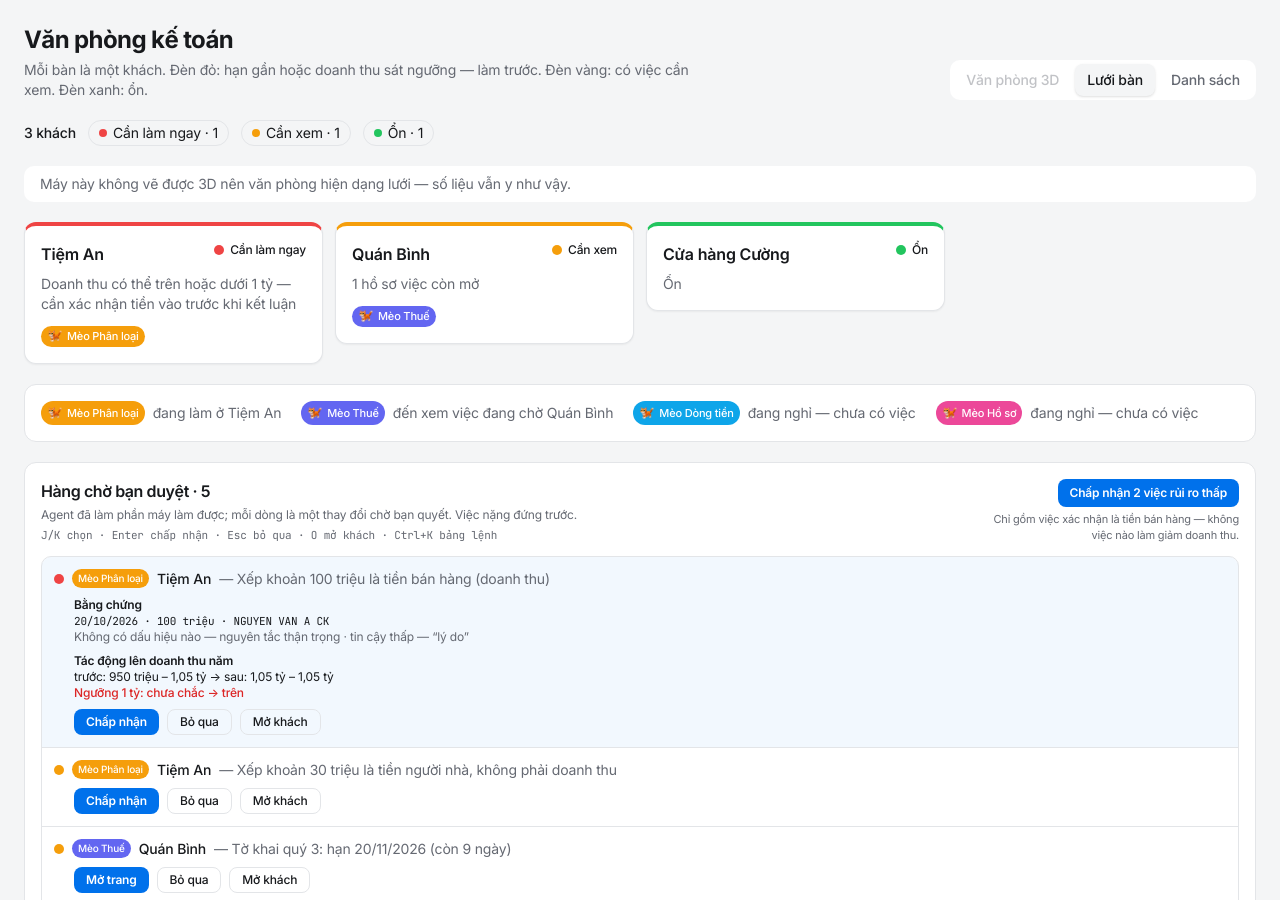
it: văn phòng kế toán › bấm bàn mở bảng khách; "Soạn tờ khai" đổi công ty đang dùng rồi mở trang tờ khai
Click the button "Tiệm An".
click(174, 293)  # box [24,222,323,364]
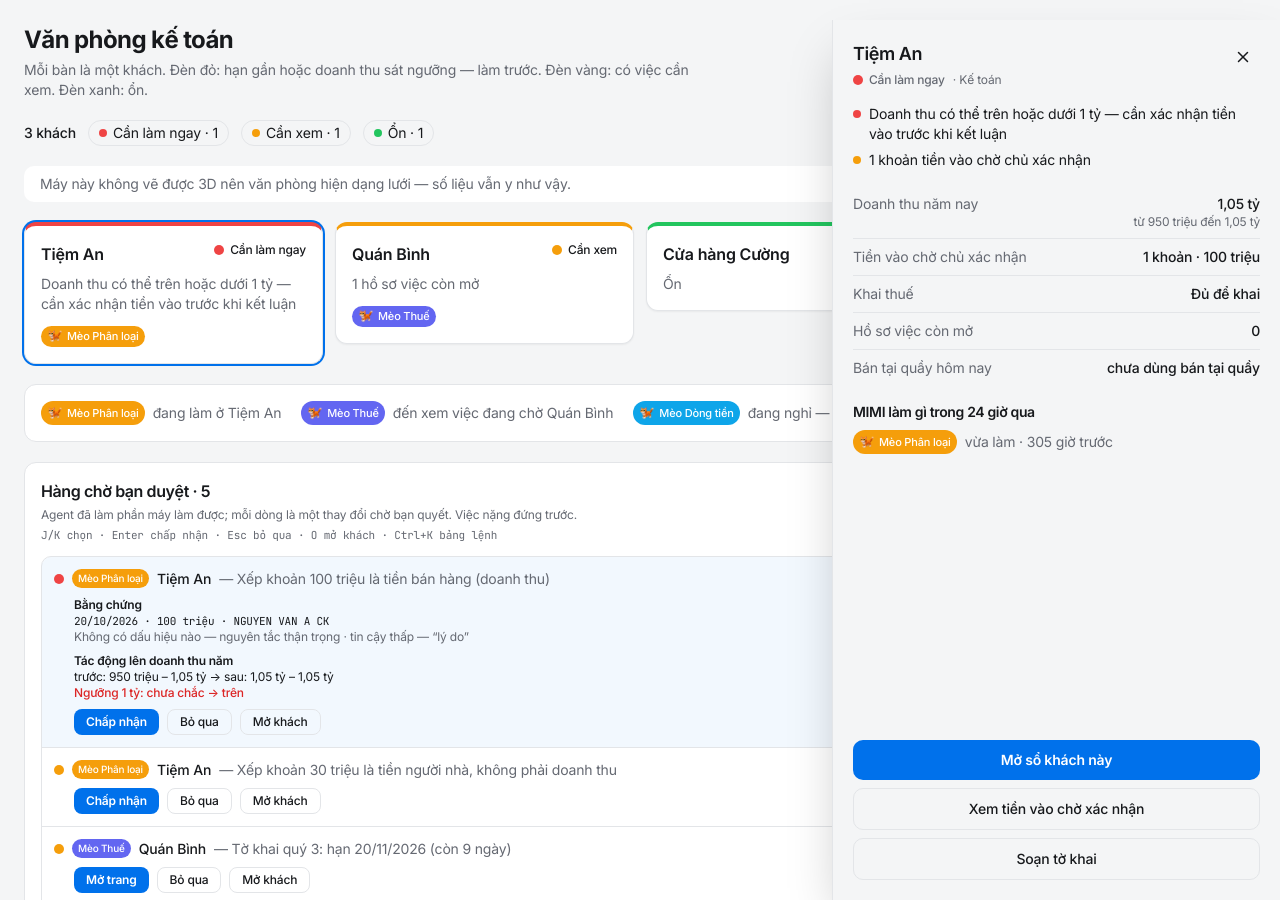
Now the dialog with test id "bang-khach" shows "từ 950 triệu đến 1,05 tỷ", box [1134,214,1260,229]
Click the button "Soạn tờ khai".
click(1056, 859)  # box [853,838,1260,880]
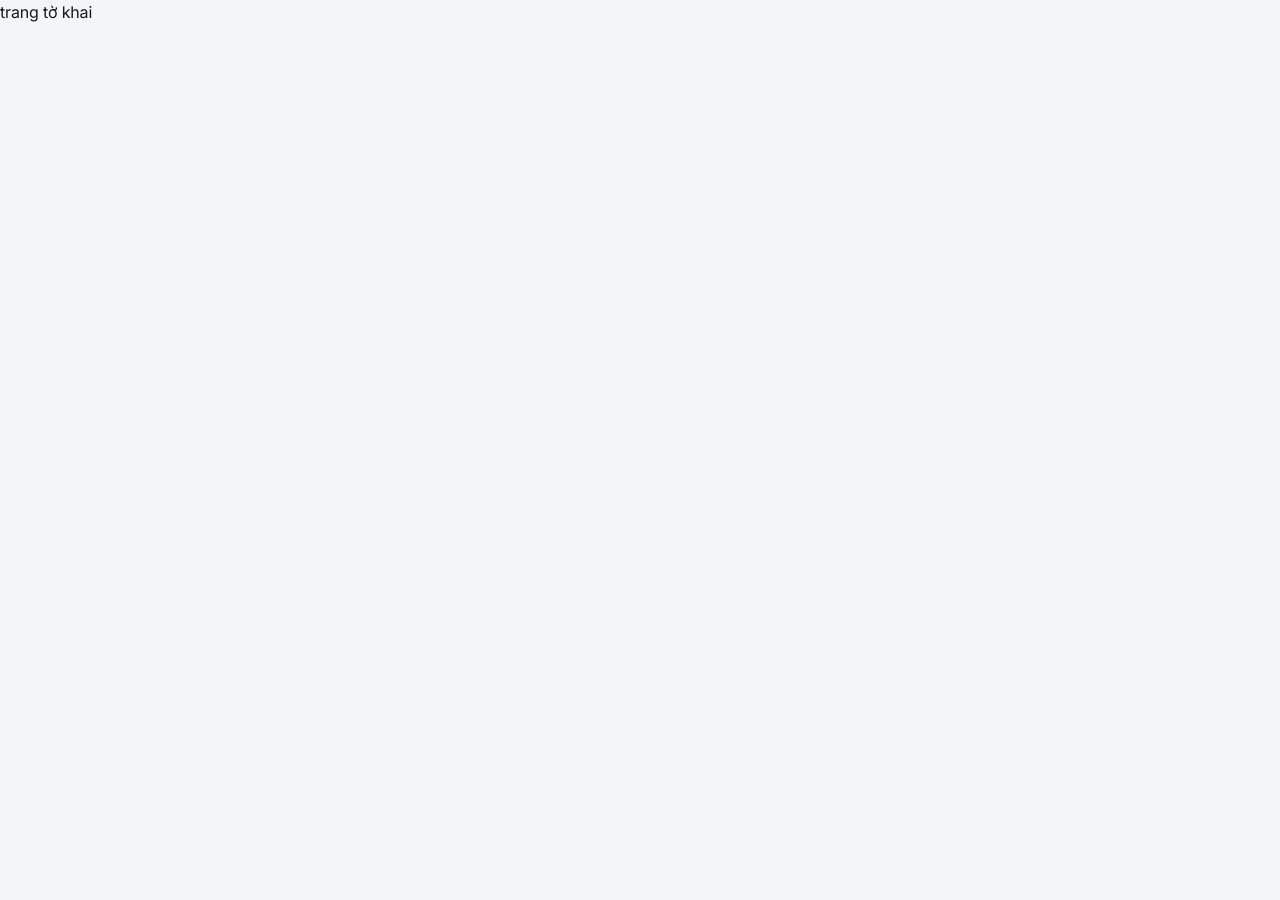
Now the text "trang tờ khai" is shown, box [0,2,92,22]
